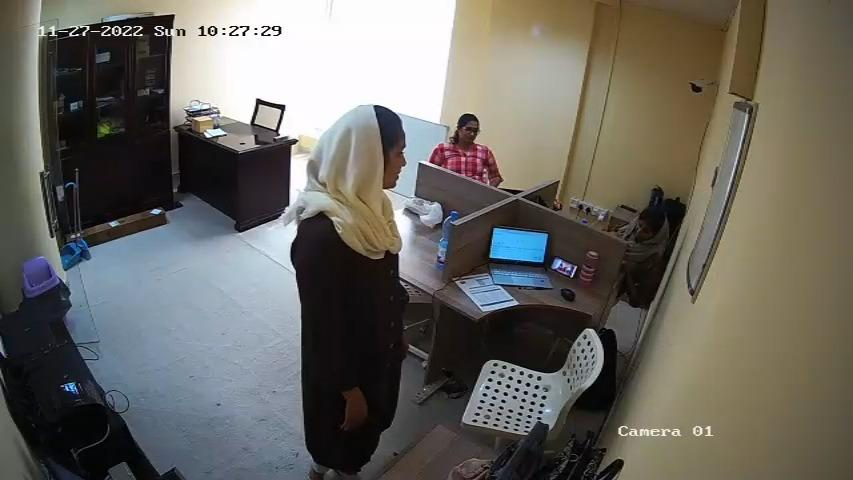no_apron: (307, 210, 401, 379)
